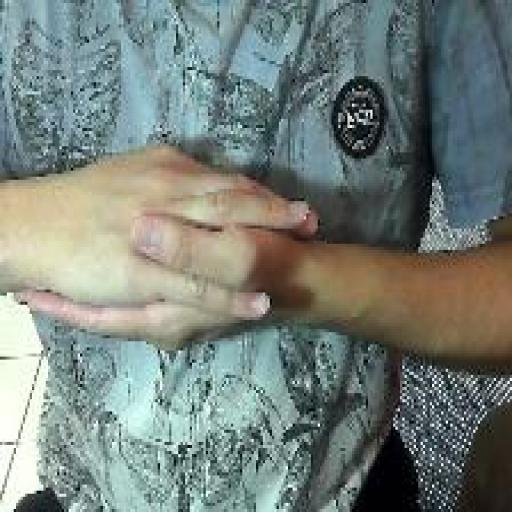Saru -monkey-: (7, 134, 322, 366)
